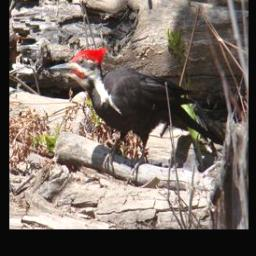Woodpecker: (47, 45, 224, 181)
